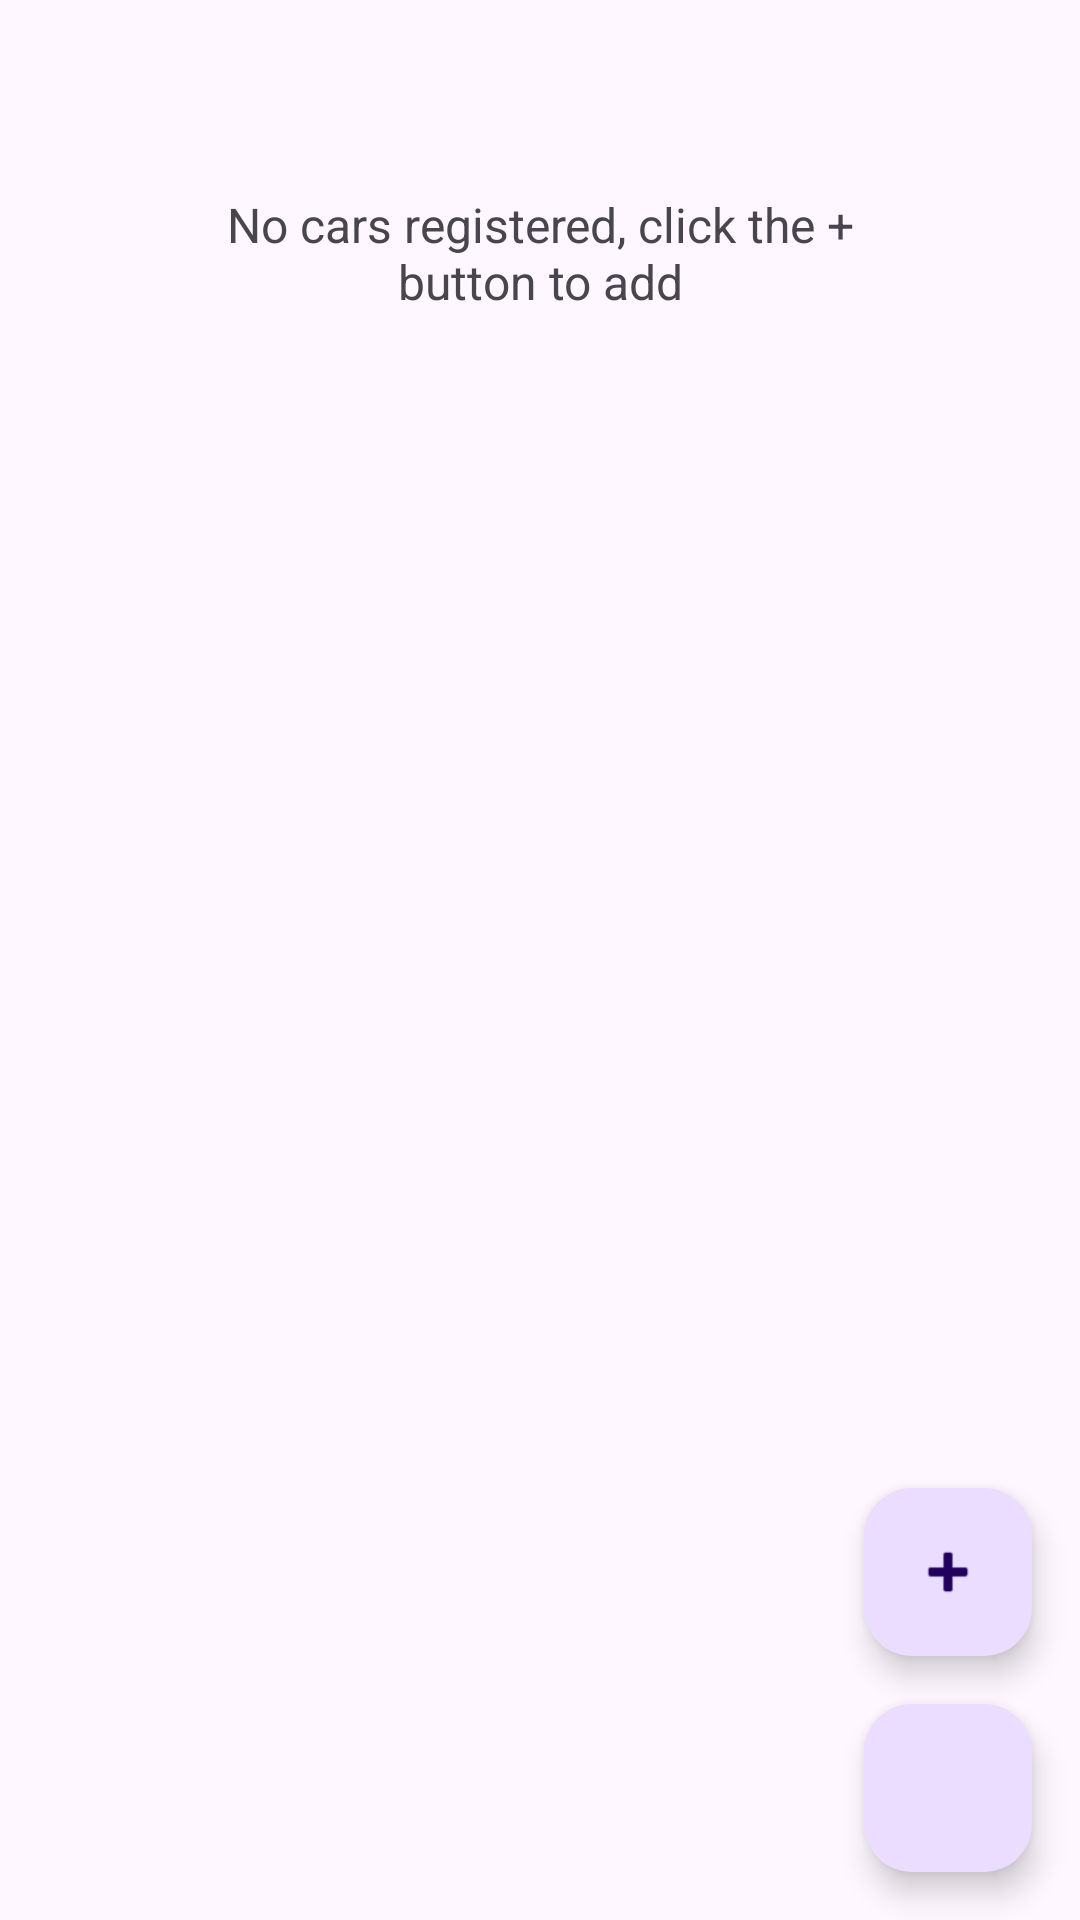

Icons on this 1080 × 1920 Android screen, each with its box as (x1, y1, x2, y2):
add: (864, 1488, 1032, 1656)
